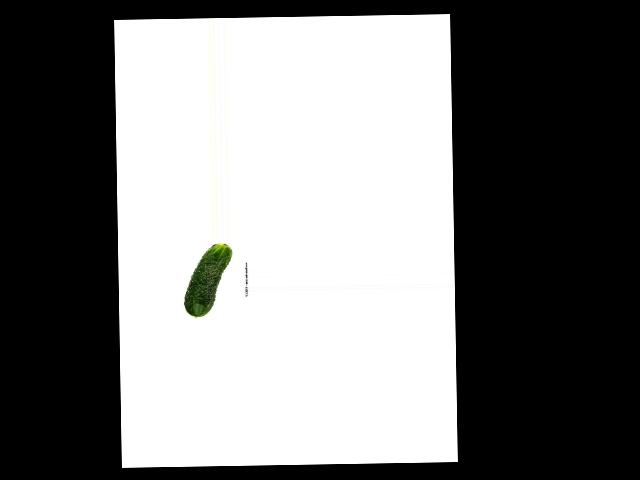cucumber: (183, 243, 233, 317)
